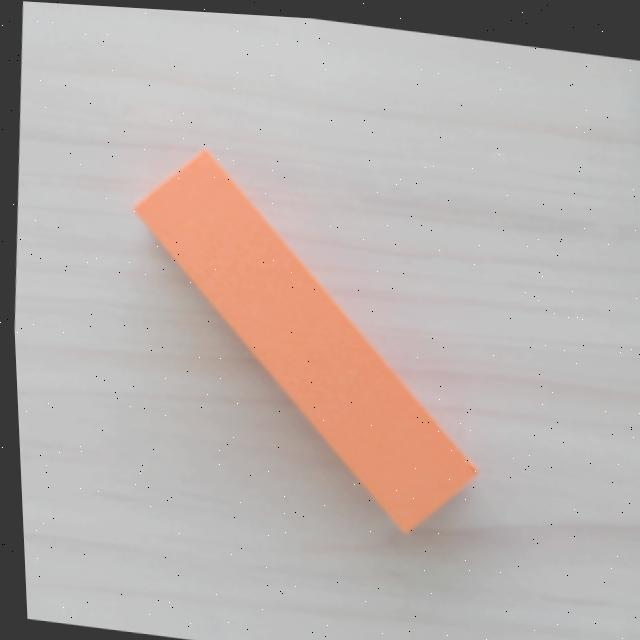Balok-Jingga-1002525: (128, 146, 478, 534)
